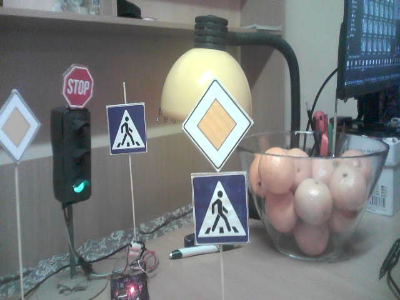crosswalk: (192, 176, 247, 244), (108, 104, 146, 151)
priority_road: (183, 82, 250, 168), (1, 90, 38, 161)
stop: (63, 65, 91, 106)
trafficlight_green: (59, 114, 91, 202)
